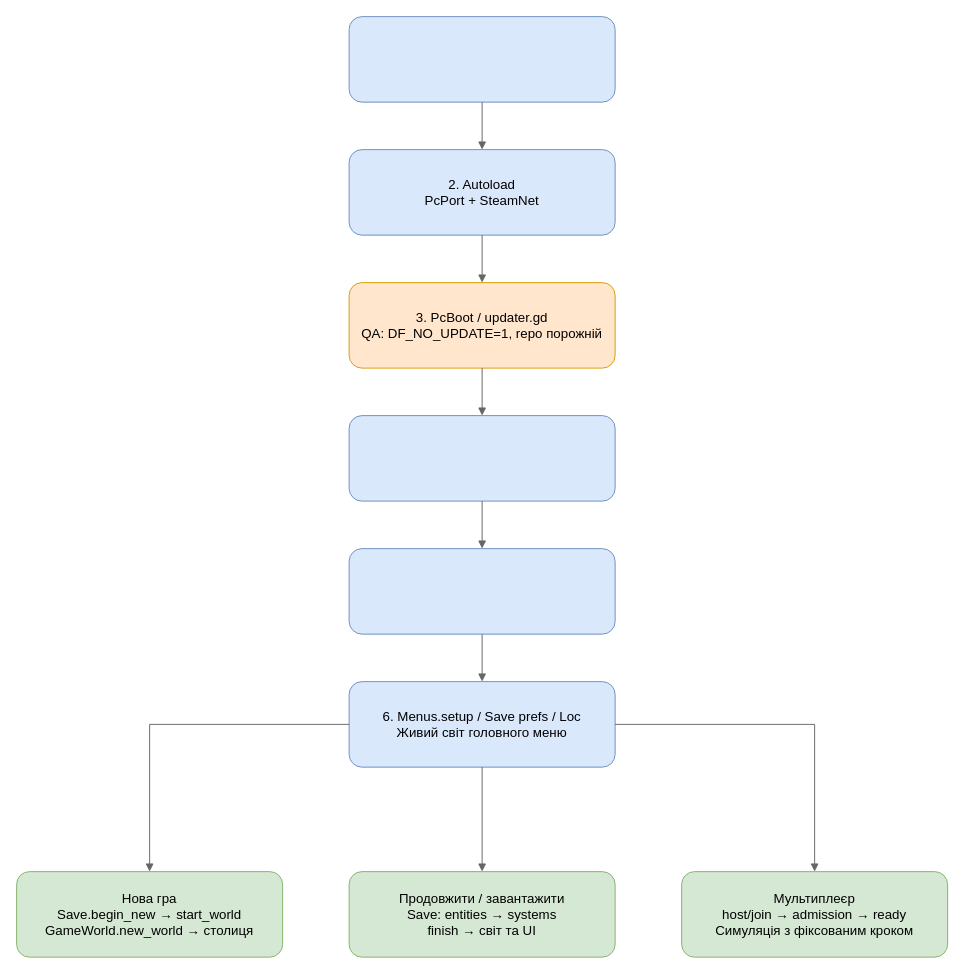
Some shapes in this 964 by 974 pixel diagram are drawn without their labels. The shapes that lost their labels are listed below. From the top down, each one's box as (x1, y1, x2, y2) in pixels, then its label:
(348, 16, 615, 102): 1. project.binary + override.cfg Godot 4.7.2 / res://pc/boot.tscn
(348, 415, 615, 501): 4. res://game/main.tscn.remap Tracked бінарна PackedScene
(348, 548, 615, 634): 5. Main._ready World, Camera, Hud, Net, Menus
